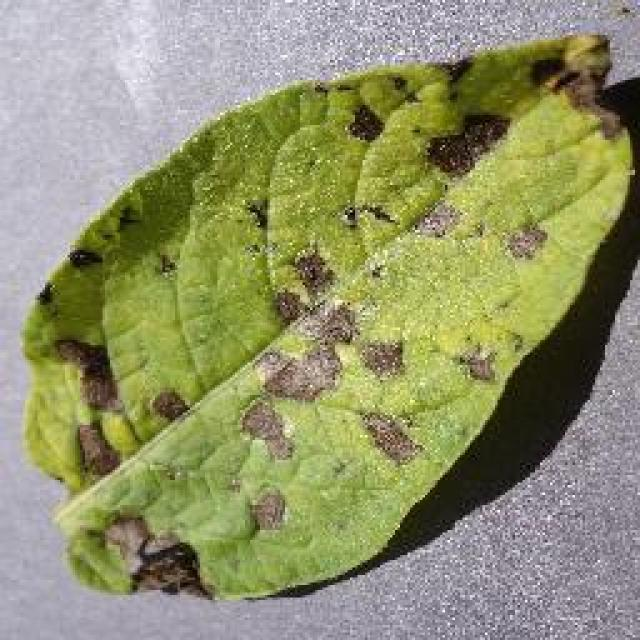Potato: (18, 30, 638, 600)
